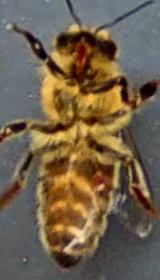varroa_mite: (78, 156, 122, 202)
